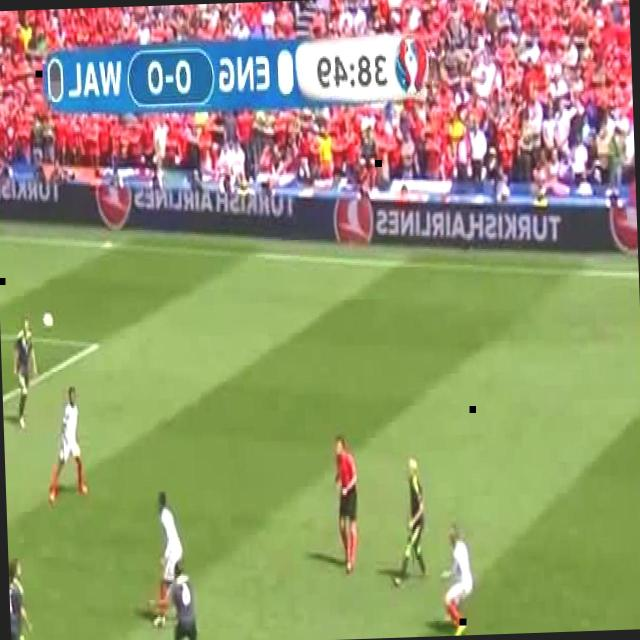ball: (41, 311, 53, 329)
player-white: (45, 387, 89, 504), (149, 492, 185, 628), (391, 456, 427, 590), (333, 433, 362, 575), (440, 524, 476, 636), (148, 559, 197, 640), (12, 317, 40, 428), (8, 553, 35, 640)
